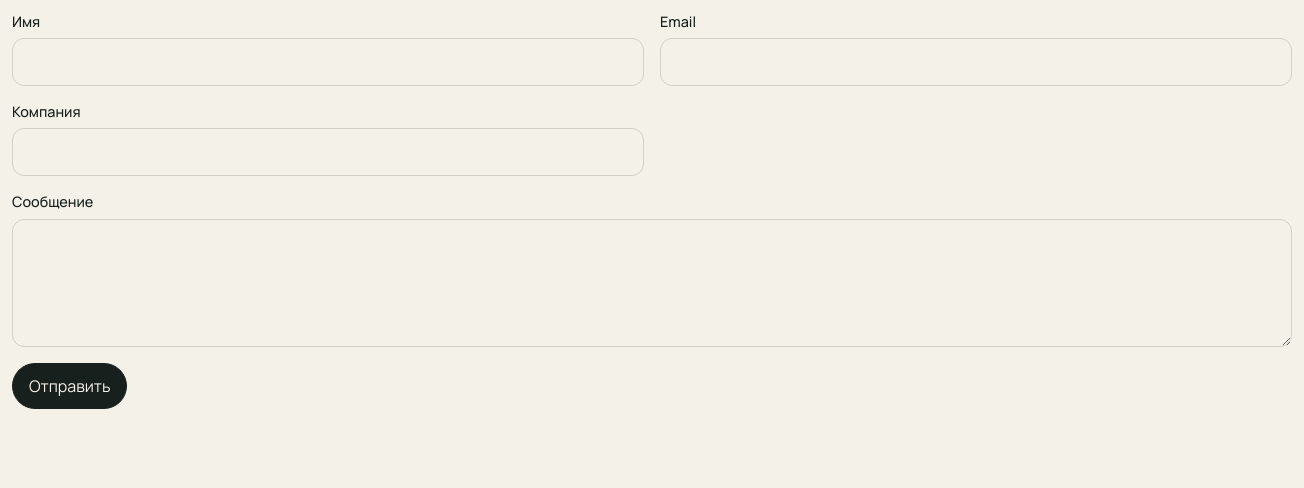
it: Форма обращения › показывает безопасную ошибку и сохраняет значения при ошибке Apollo
Type "Michael Ershov" into the field labelled "Имя" at (328,62), box [12,38,644,86]
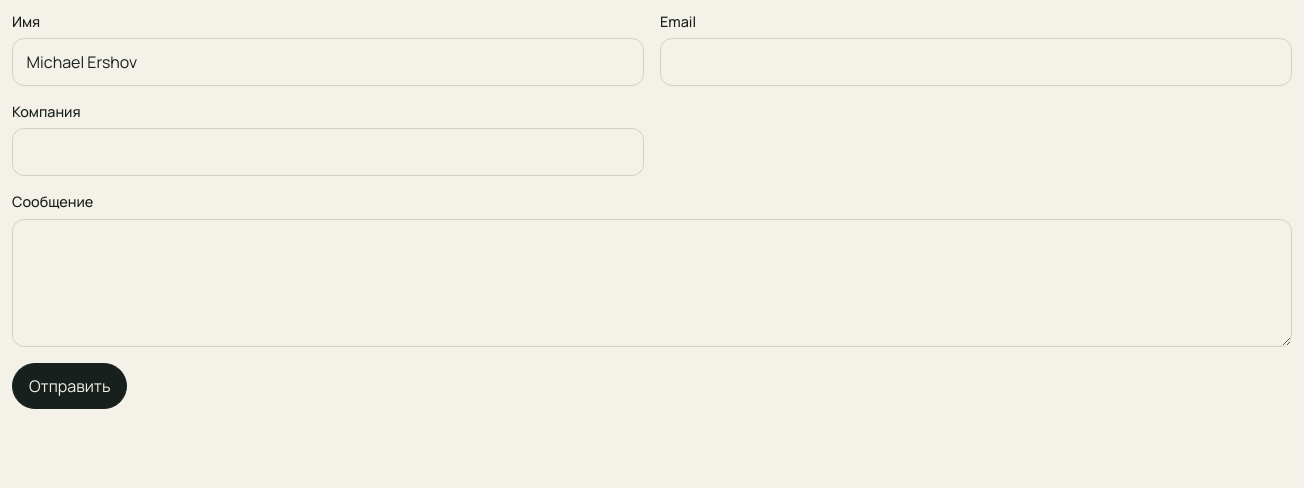
Type "michael@example.com" into the field labelled "Email" at (976,62), box [660,38,1292,86]
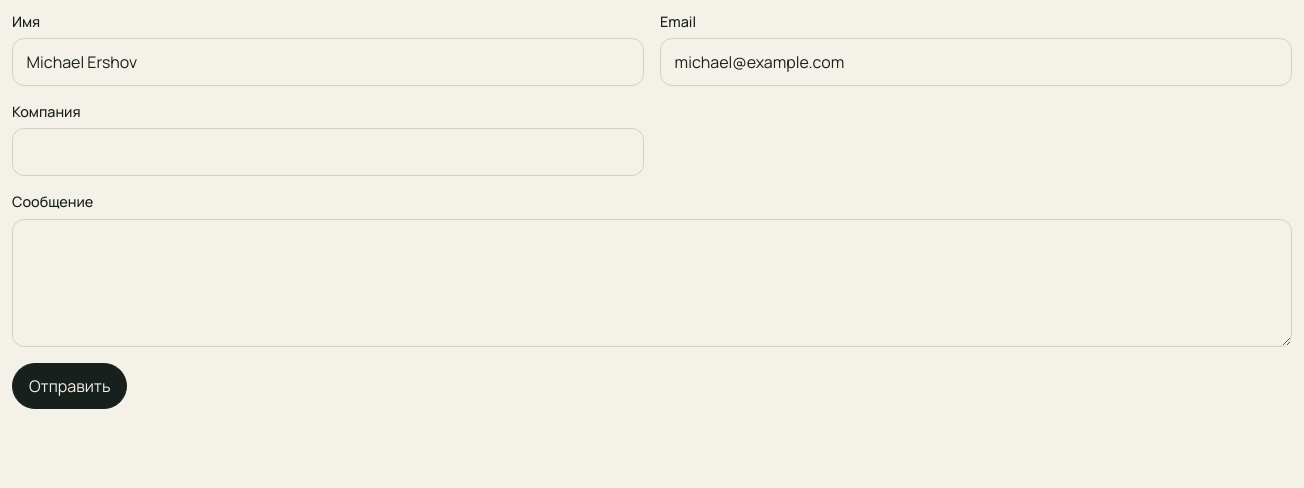
Type "Example" into the field labelled "Компания" at (328,152), box [12,128,644,176]
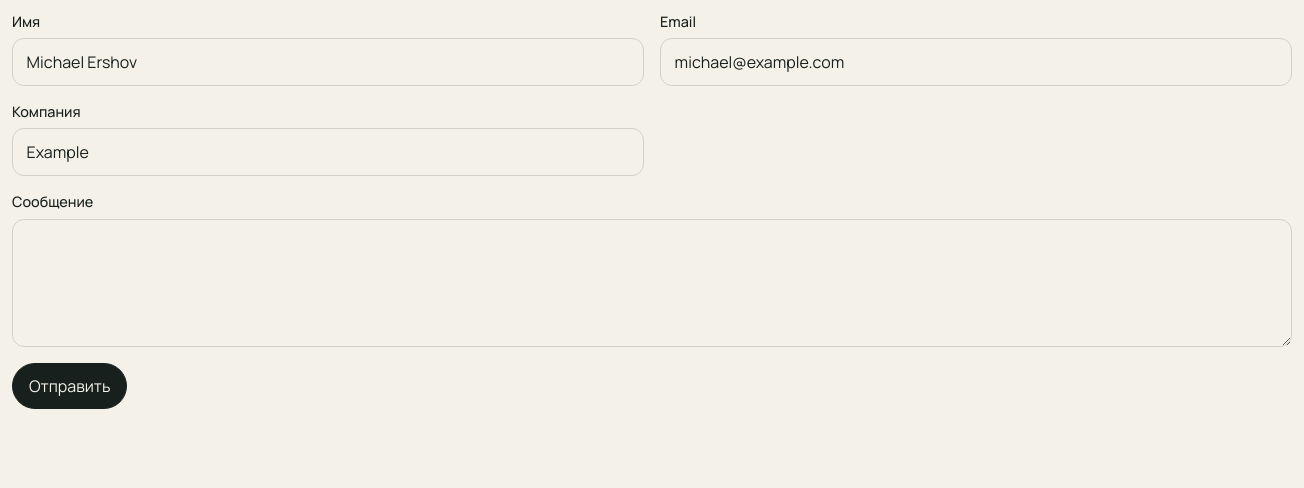
Type "Предлагаю обсудить сотрудничество." into the text box labelled "Сообщение" at (652,283), box [12,219,1292,347]
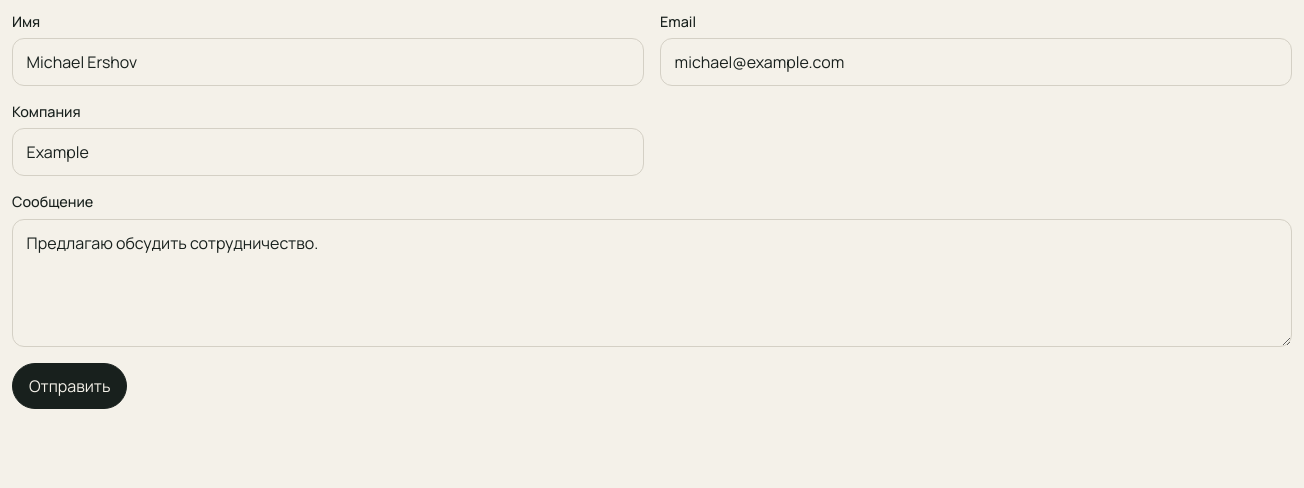
Submit the form "Отправить"
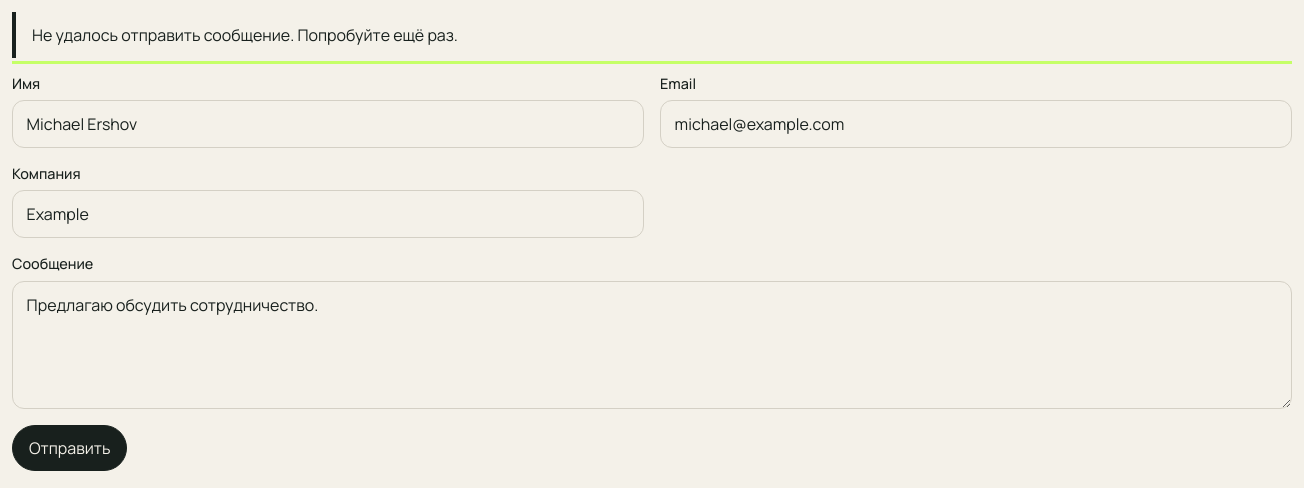
Expected: the message does not show "Sensitive backend message", [12,12,1292,58]
Expected: the message reads "Не удалось отправить сообщение. Попробуйте ещё раз.", [32,24,458,46]
